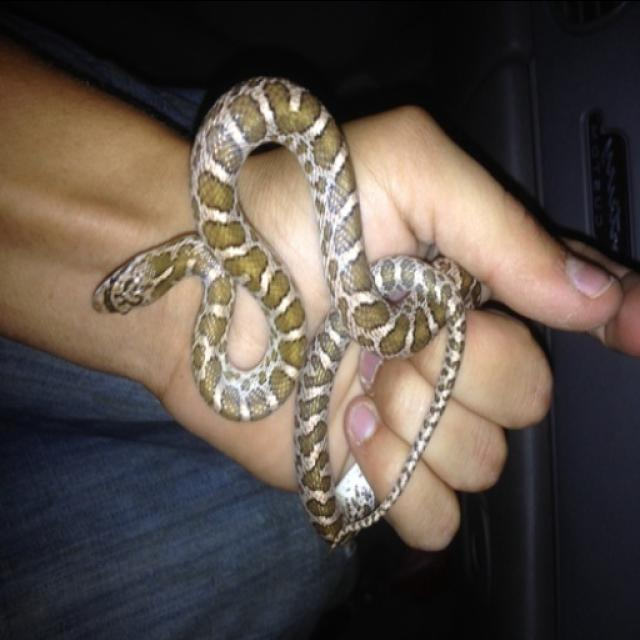snake: (74, 62, 499, 550)
